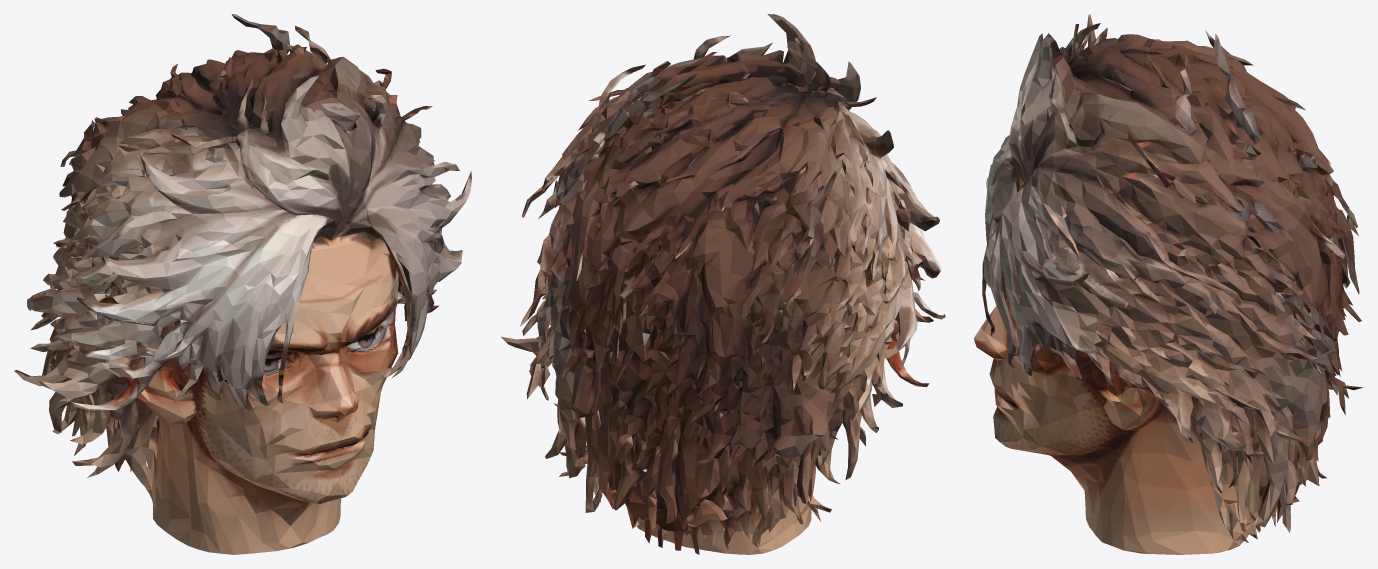
Rendered from side_beggar_repaired_atlas.glb.
The picture shows the model from 3 angles, left to right: view 1: azimuth 30°, elevation 25°; view 2: azimuth 150°, elevation 25°; view 3: azimuth 270°, elevation 25°; orthographic projection. The views are drawn at different scales.
Visible parts, largest first — view 1: temp_mesh.ply; view 2: temp_mesh.ply; view 3: temp_mesh.ply.
Boxes of the visible parts, x1=… form: temp_mesh.ply: x1=14, y1=14, x2=471, y2=554; temp_mesh.ply: x1=501, y1=14, x2=945, y2=554; temp_mesh.ply: x1=974, y1=14, x2=1363, y2=554.
Size of the model in its own units: 1.71 by 1.97 by 1.43.
1 material, 1 textured.
